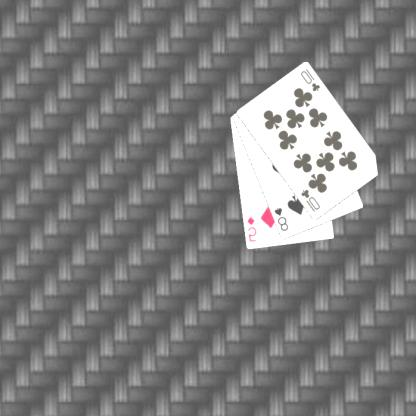10C: (299, 66, 323, 93), (300, 187, 323, 214)
5D: (246, 214, 259, 243)
8S: (273, 204, 291, 232)
